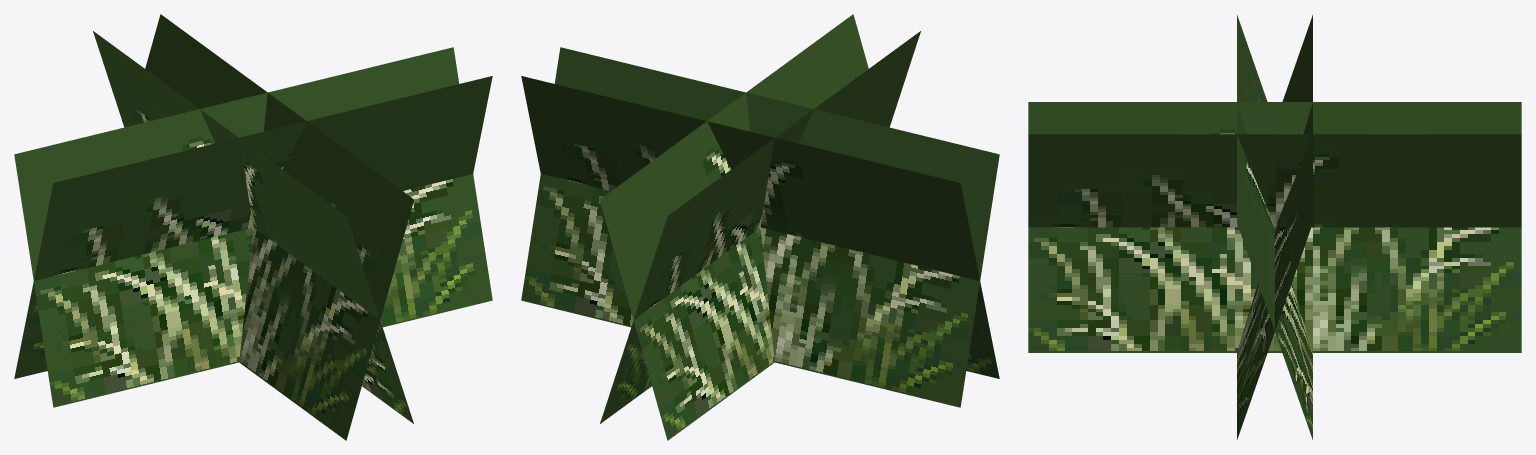
File: grass-05.glb
3 renders of one model, left to right at view 1: azimuth 30°, elevation 25°; view 2: azimuth 150°, elevation 25°; view 3: azimuth 270°, elevation 25°, orthographic. The views are drawn at different scales.
Parts seen in each view (by area): view 1: wrld_fol_grasscluster_a_1; view 2: wrld_fol_grasscluster_a_1; view 3: wrld_fol_grasscluster_a_1.
Part boxes in pixels (left/top/right/bottom): wrld_fol_grasscluster_a_1: left=14, top=14, right=492, bottom=440; wrld_fol_grasscluster_a_1: left=521, top=14, right=999, bottom=440; wrld_fol_grasscluster_a_1: left=1028, top=15, right=1521, bottom=439.
Size of the model in its own units: 2.75 by 1.34 by 2.75.
1 material, 1 textured.
